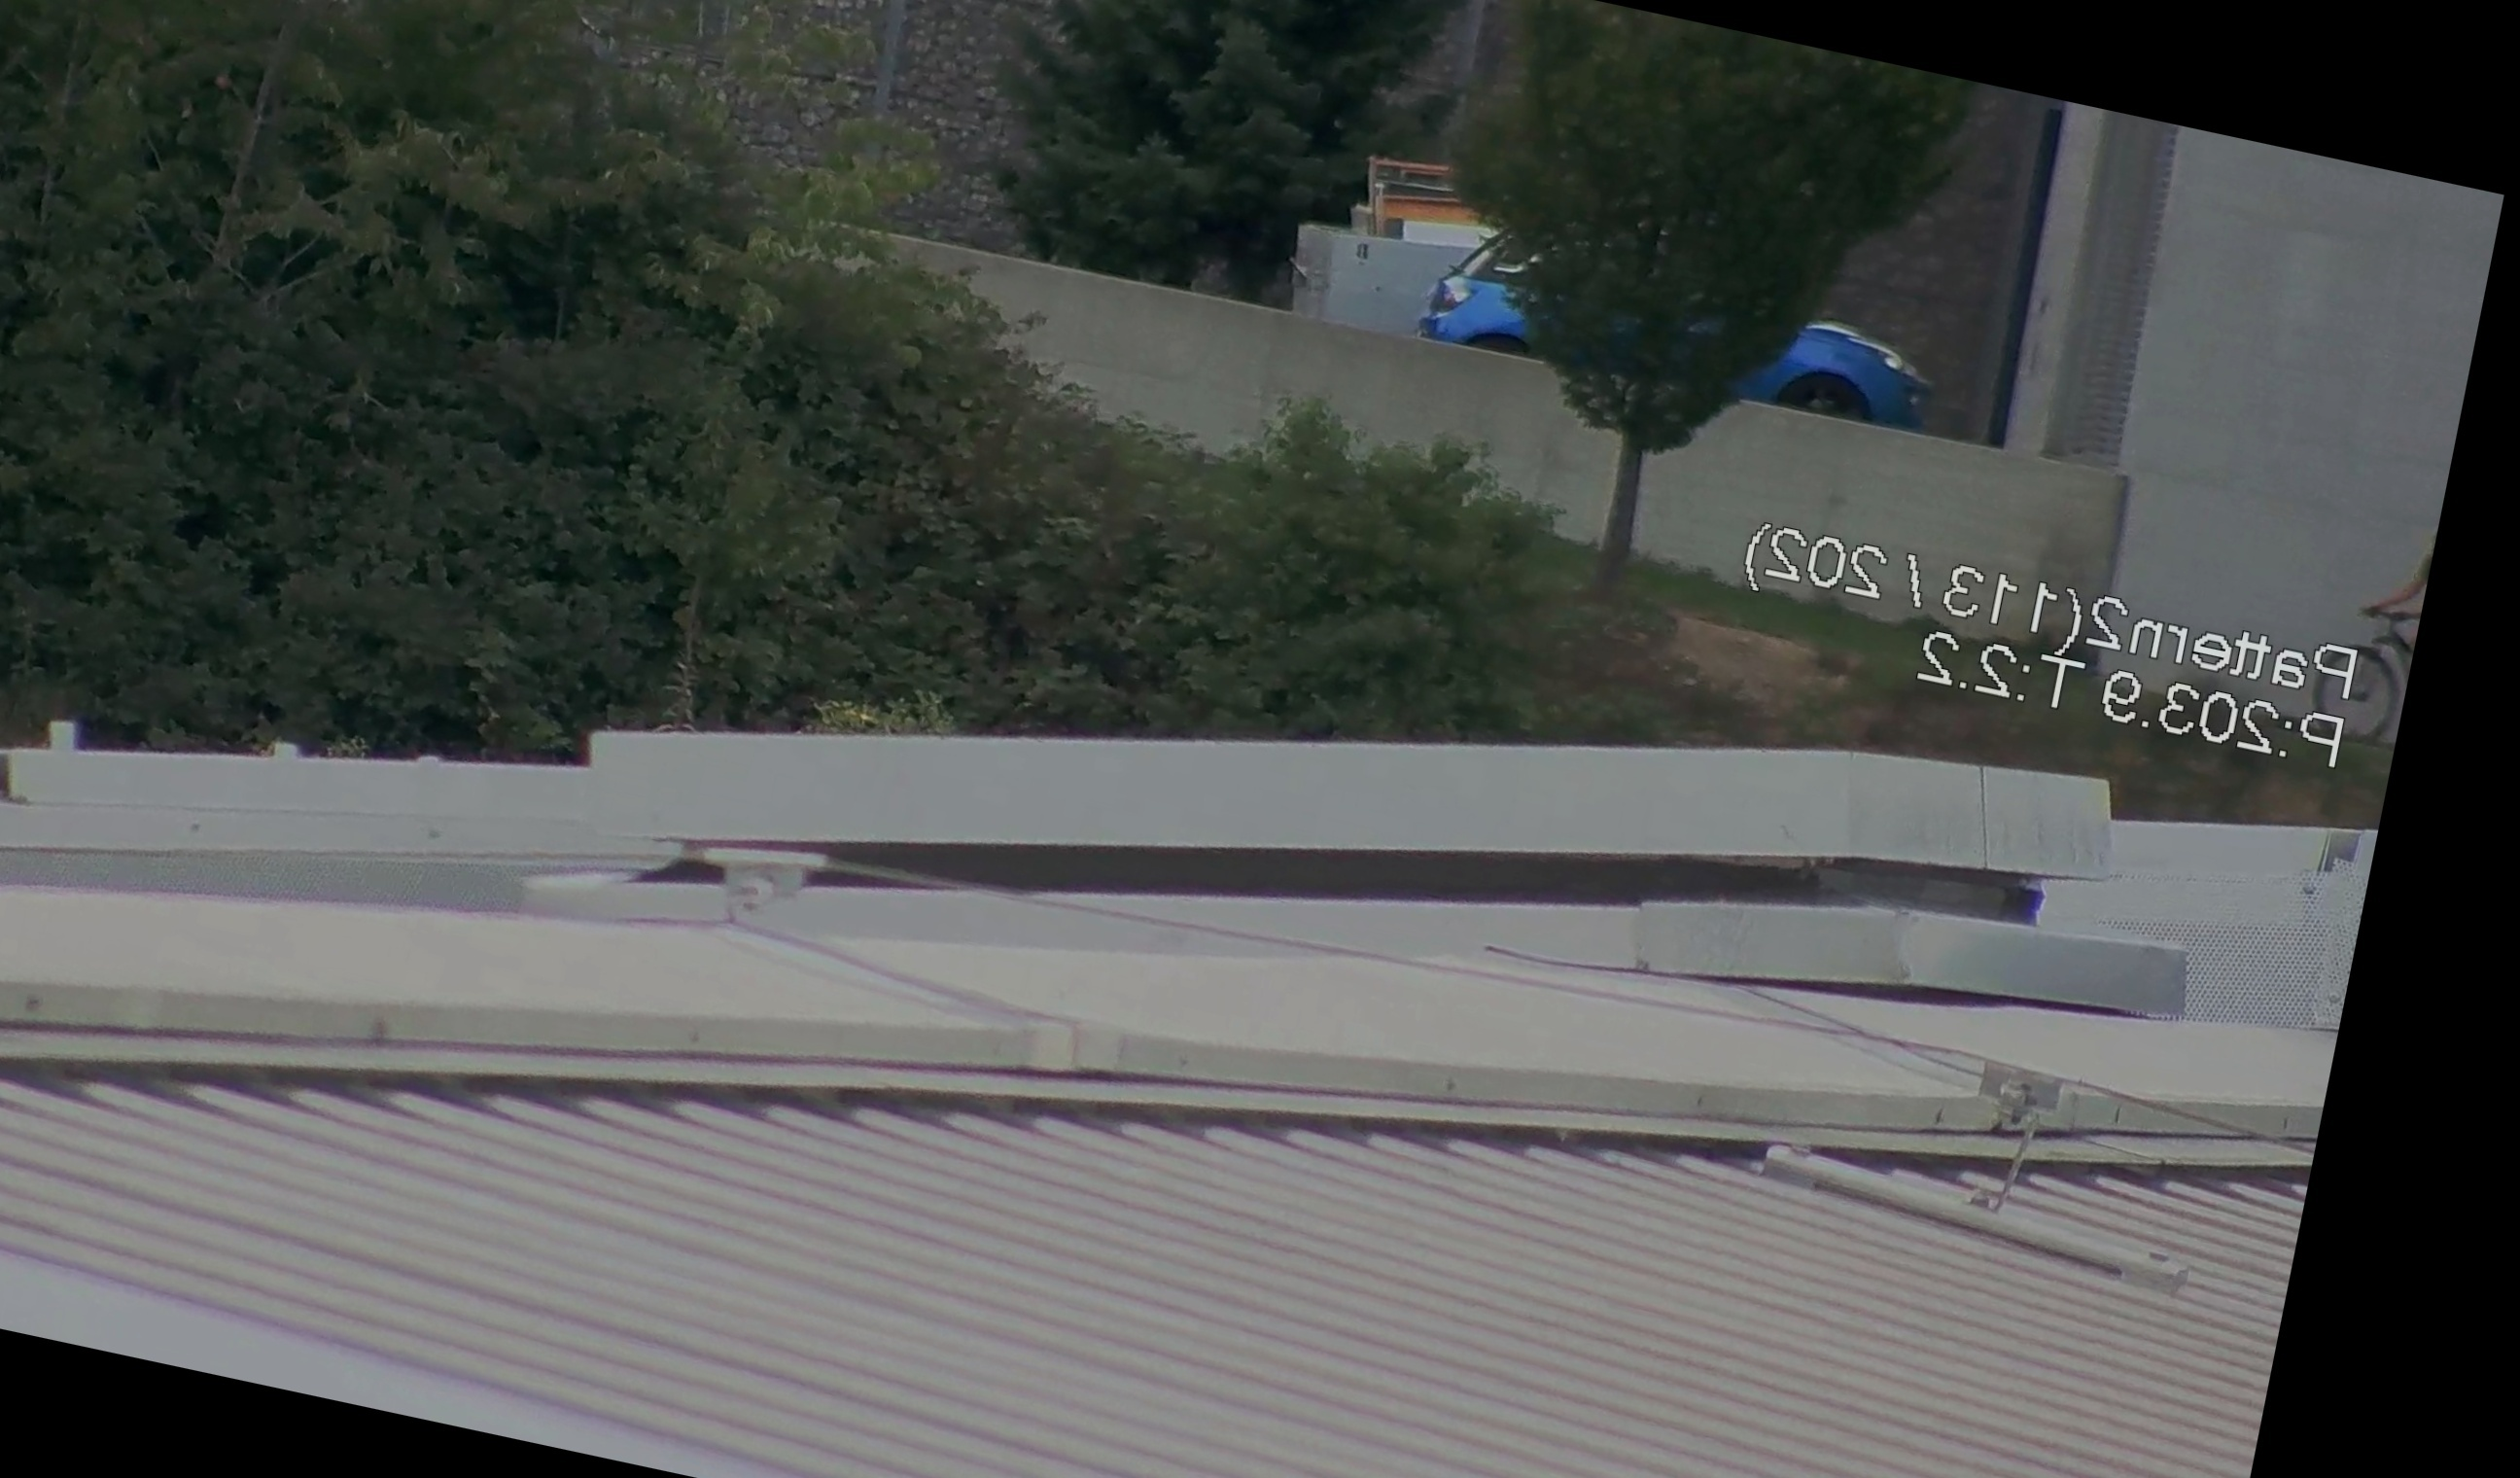Other: (2328, 500, 2495, 711)
